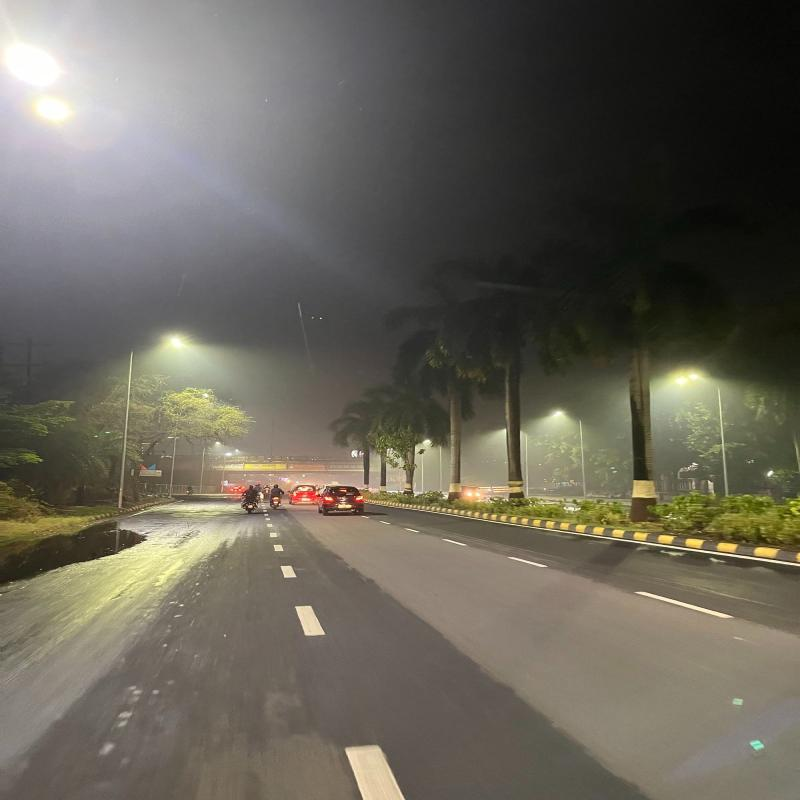license plate on a car: (337, 504, 354, 510), (299, 498, 313, 502)
